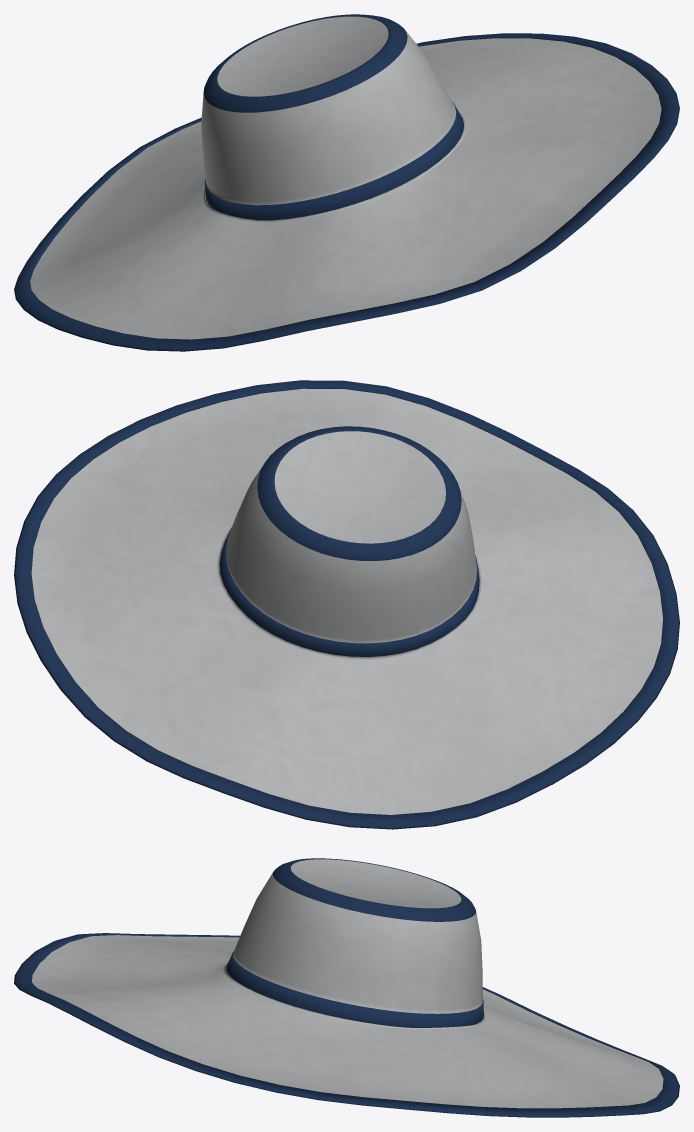
3 renders of one model, top to bottom at view 1: azimuth 30°, elevation 25°; view 2: azimuth 150°, elevation 25°; view 3: azimuth 270°, elevation 25°, orthographic. The views are drawn at different scales.
Parts seen in each view (by area): view 1: vic_sunday_hat_HP__0; view 2: vic_sunday_hat_HP__0; view 3: vic_sunday_hat_HP__0.
Boxes of the visible parts, <box> form: vic_sunday_hat_HP__0: <box>14,14,679,351</box>; vic_sunday_hat_HP__0: <box>14,380,679,829</box>; vic_sunday_hat_HP__0: <box>14,858,679,1117</box>.
Size of the model in its own units: 330 by 138 by 332.
Materials: 1 (1 with a texture image).
